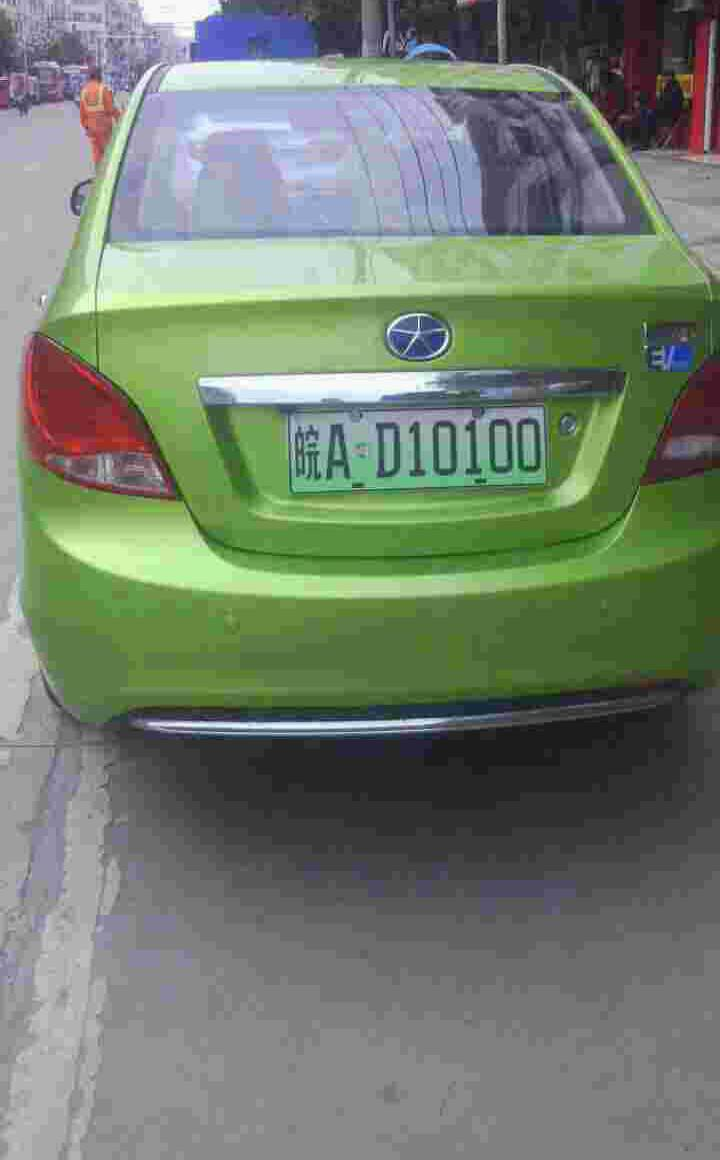car_green: (272, 404, 561, 493)
